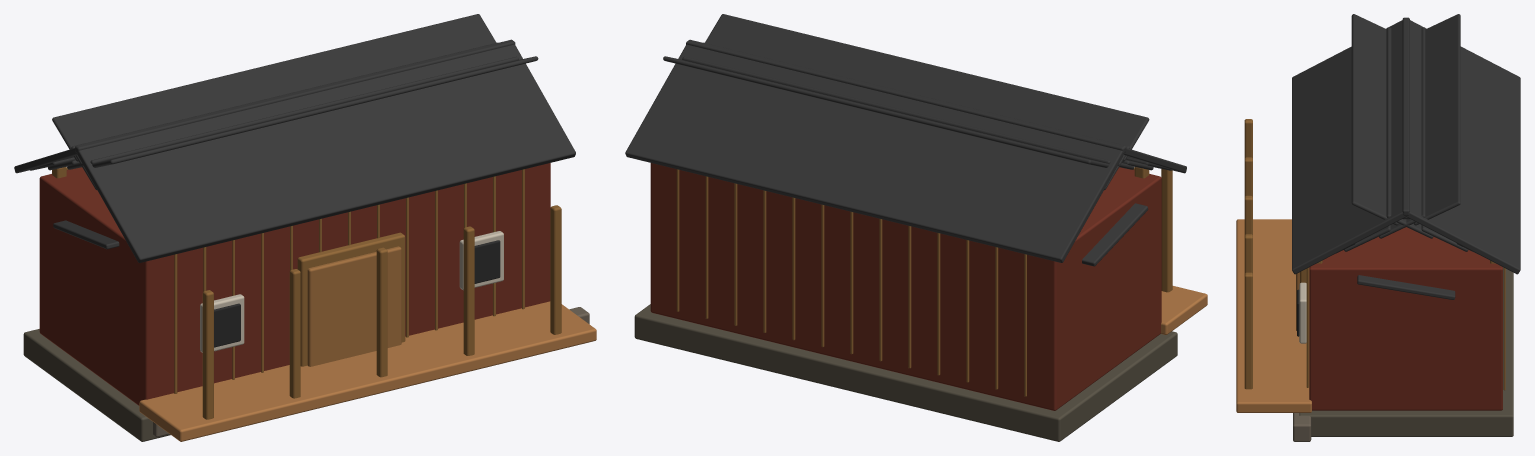
Rendered from bunkhouse.glb.
The picture shows the model from 3 angles, left to right: view 1: azimuth 30°, elevation 25°; view 2: azimuth 150°, elevation 25°; view 3: azimuth 270°, elevation 25°; orthographic projection. The views are drawn at different scales.
Visible parts, largest first — view 1: bunkhouse-farm-roof-slate, bunkhouse-farm-barn-red-dark, bunkhouse-farm-wood-light, bunkhouse-farm-wood-dark, bunkhouse-farm-wood, bunkhouse-farm-stone-dark, bunkhouse-farm-window, bunkhouse-farm-trim; view 2: bunkhouse-farm-roof-slate, bunkhouse-farm-barn-red-dark, bunkhouse-farm-stone-dark, bunkhouse-farm-wood-dark, bunkhouse-farm-wood-light; view 3: bunkhouse-farm-roof-slate, bunkhouse-farm-barn-red-dark, bunkhouse-farm-wood-light, bunkhouse-farm-stone-dark, bunkhouse-farm-wood-dark, bunkhouse-farm-rock, bunkhouse-farm-trim.
Boxes of the visible parts, x1=… form: bunkhouse-farm-roof-slate: x1=14, y1=14, x2=575, y2=262; bunkhouse-farm-barn-red-dark: x1=39, y1=163, x2=550, y2=405; bunkhouse-farm-wood-light: x1=139, y1=301, x2=596, y2=441; bunkhouse-farm-wood-dark: x1=52, y1=167, x2=561, y2=419; bunkhouse-farm-wood: x1=307, y1=246, x2=401, y2=366; bunkhouse-farm-stone-dark: x1=23, y1=329, x2=170, y2=441; bunkhouse-farm-window: x1=214, y1=240, x2=500, y2=347; bunkhouse-farm-trim: x1=200, y1=231, x2=503, y2=352; bunkhouse-farm-roof-slate: x1=625, y1=14, x2=1186, y2=266; bunkhouse-farm-barn-red-dark: x1=650, y1=163, x2=1161, y2=410; bunkhouse-farm-stone-dark: x1=634, y1=304, x2=1177, y2=441; bunkhouse-farm-wood-dark: x1=676, y1=167, x2=1172, y2=396; bunkhouse-farm-wood-light: x1=1161, y1=286, x2=1207, y2=334; bunkhouse-farm-roof-slate: x1=1292, y1=14, x2=1520, y2=299; bunkhouse-farm-barn-red-dark: x1=1309, y1=227, x2=1502, y2=410; bunkhouse-farm-wood-light: x1=1236, y1=219, x2=1311, y2=412; bunkhouse-farm-stone-dark: x1=1299, y1=267, x2=1513, y2=436; bunkhouse-farm-wood-dark: x1=1244, y1=119, x2=1505, y2=390; bunkhouse-farm-rock: x1=1293, y1=413, x2=1311, y2=441; bunkhouse-farm-trim: x1=1299, y1=282, x2=1306, y2=343.
Size of the model in its own units: 7.8 by 4.3 by 4.69.
